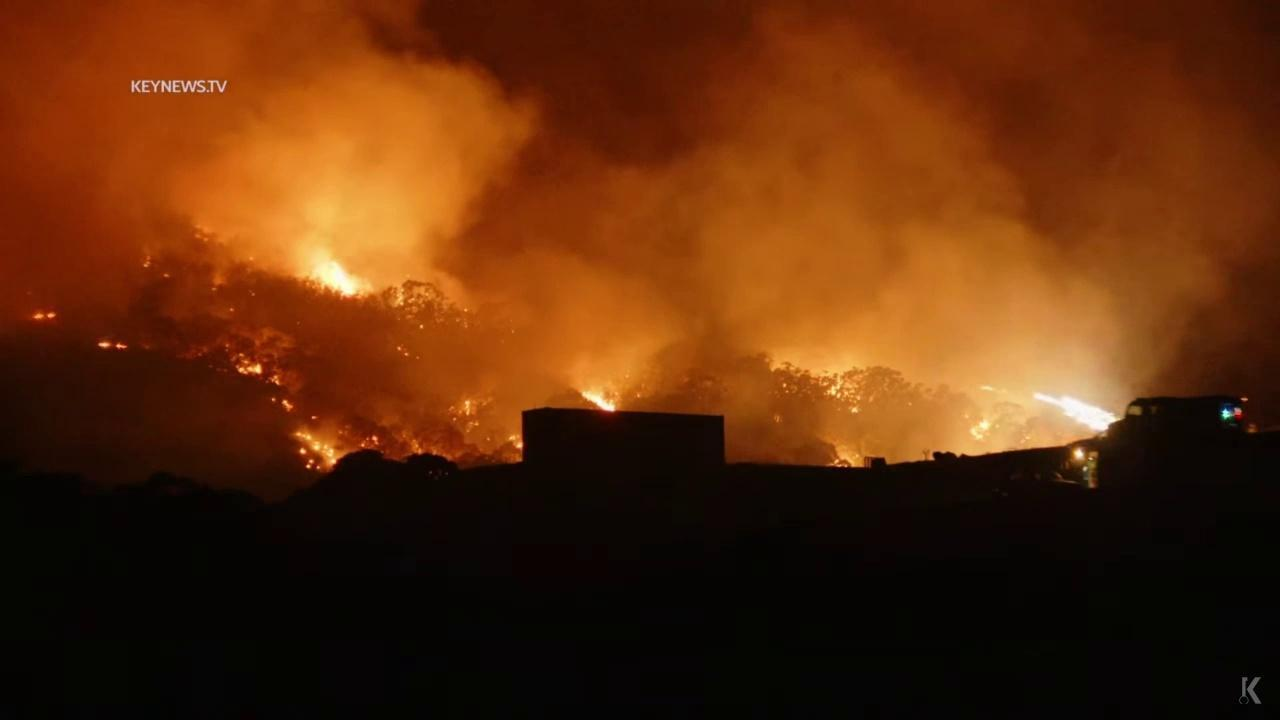fire: (1028, 387, 1125, 433), (307, 257, 374, 300), (287, 425, 338, 473), (578, 386, 618, 414), (228, 351, 263, 375), (965, 417, 993, 441), (93, 339, 130, 352), (507, 431, 524, 451), (30, 310, 58, 321), (279, 398, 295, 414), (463, 397, 475, 418), (975, 382, 996, 393)
smoke: (0, 0, 1280, 513)
